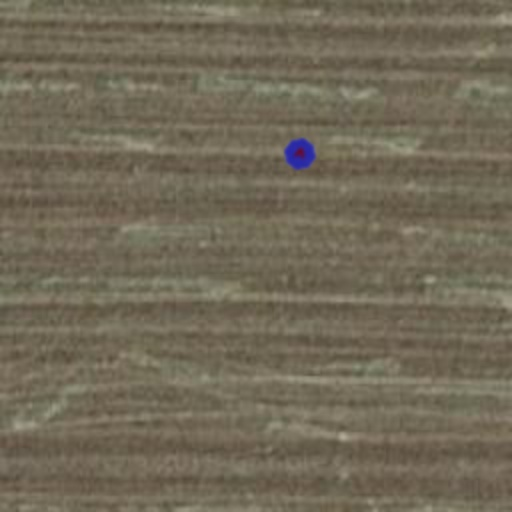octagon: (278, 132, 322, 176)
